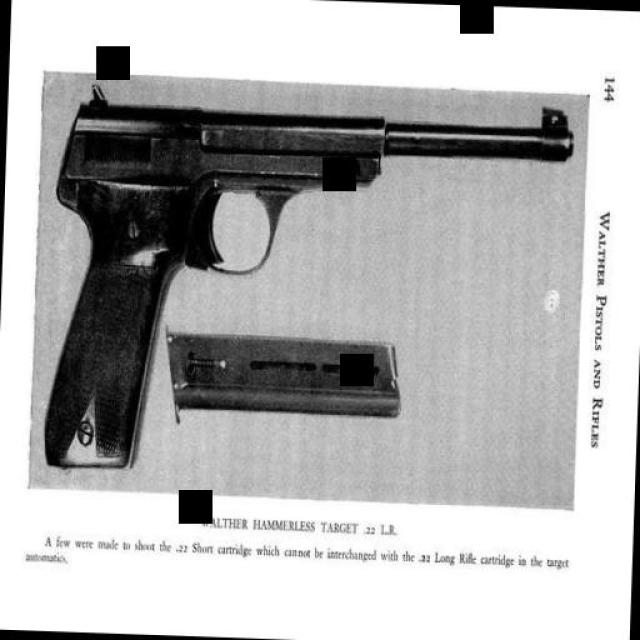gun: (39, 81, 578, 491)
